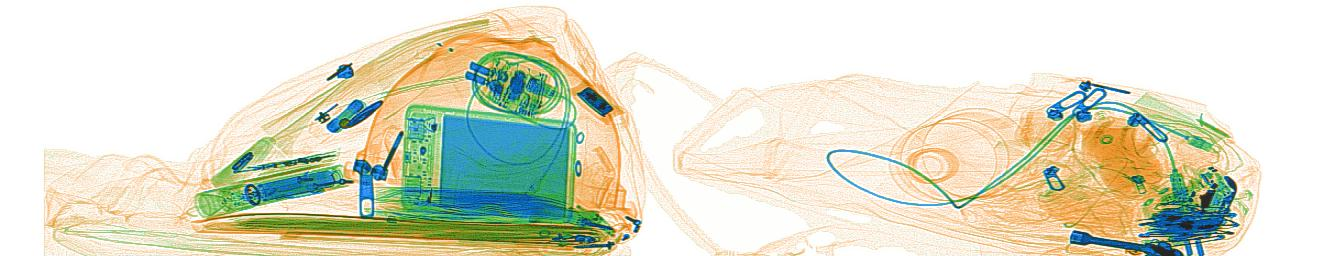battery: (251, 167, 334, 202)
